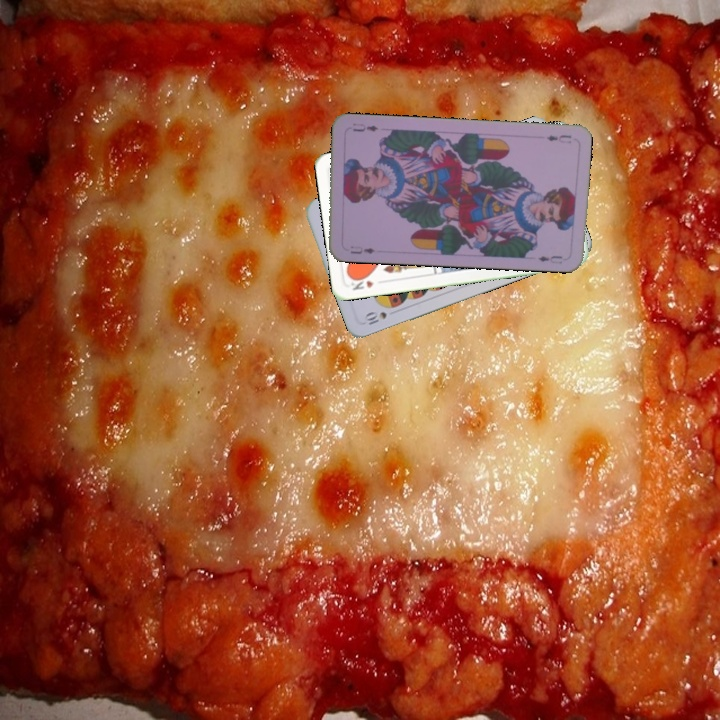EU: (346, 242, 377, 256), (543, 131, 574, 145)
HK: (346, 272, 376, 293)
S10: (361, 307, 389, 328)
